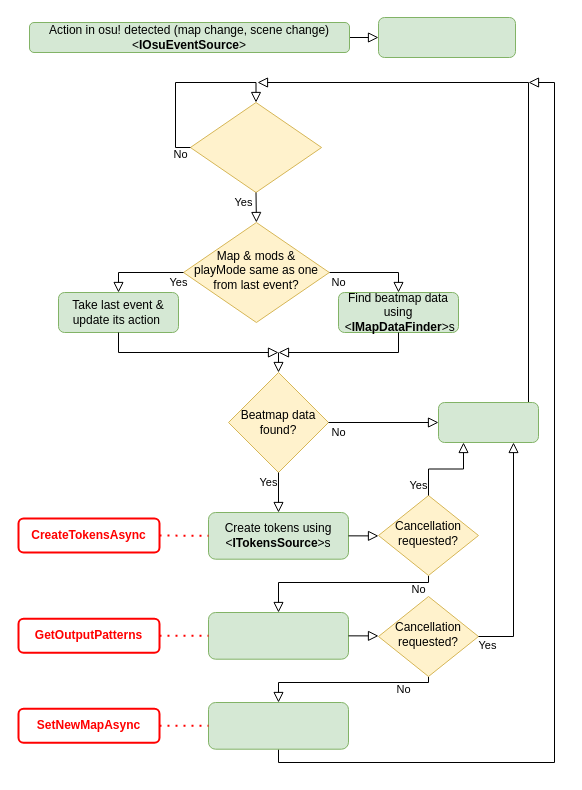
Image size: 582x790. Some labels were removed from this diagram. The shapes that lost their labels are listed below. From the top down, each one's box as (x1, y1, x2, y2) in pixels, then its label:
(378, 16, 516, 58): Push event on stack by invoking NewOsuEvent
(189, 102, 322, 192): Event waiting on stack?
(438, 402, 538, 442): Abort event
(208, 612, 348, 659): Create non-live output patterns using < IOutputPatternSource >s
(208, 702, 348, 749): Provide results to < IMapDataConsumer >s
